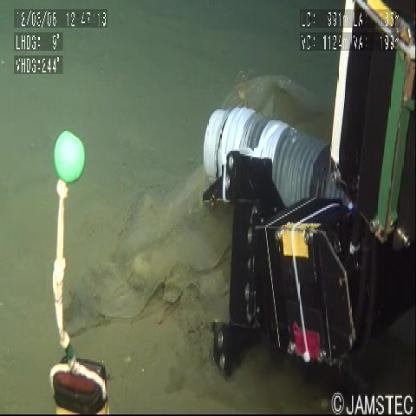Rác: (59, 73, 295, 338)
